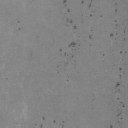oxide scale of temperature system: (55, 0, 128, 74), (109, 96, 126, 128), (34, 115, 66, 128), (115, 66, 123, 88), (16, 19, 21, 30), (101, 52, 106, 57)
